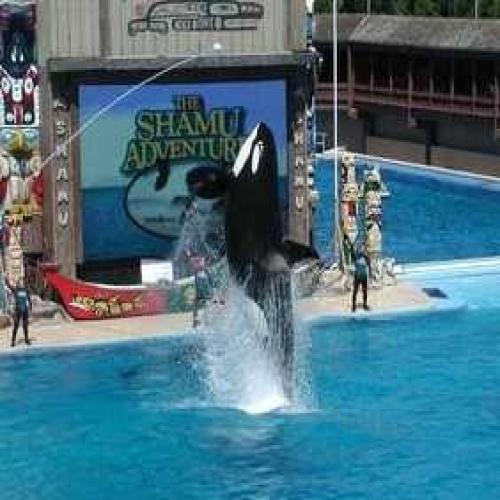killer_whale-endangered: (181, 101, 329, 420)
